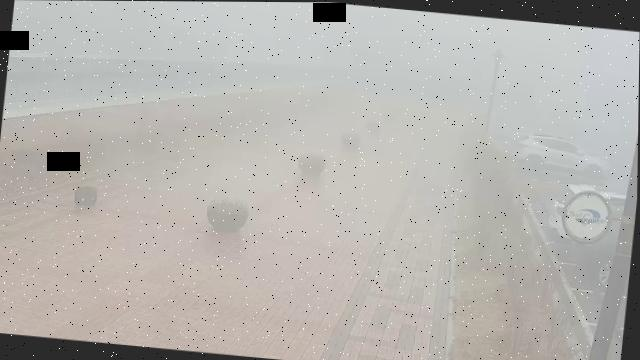bag: (74, 184, 98, 209)
